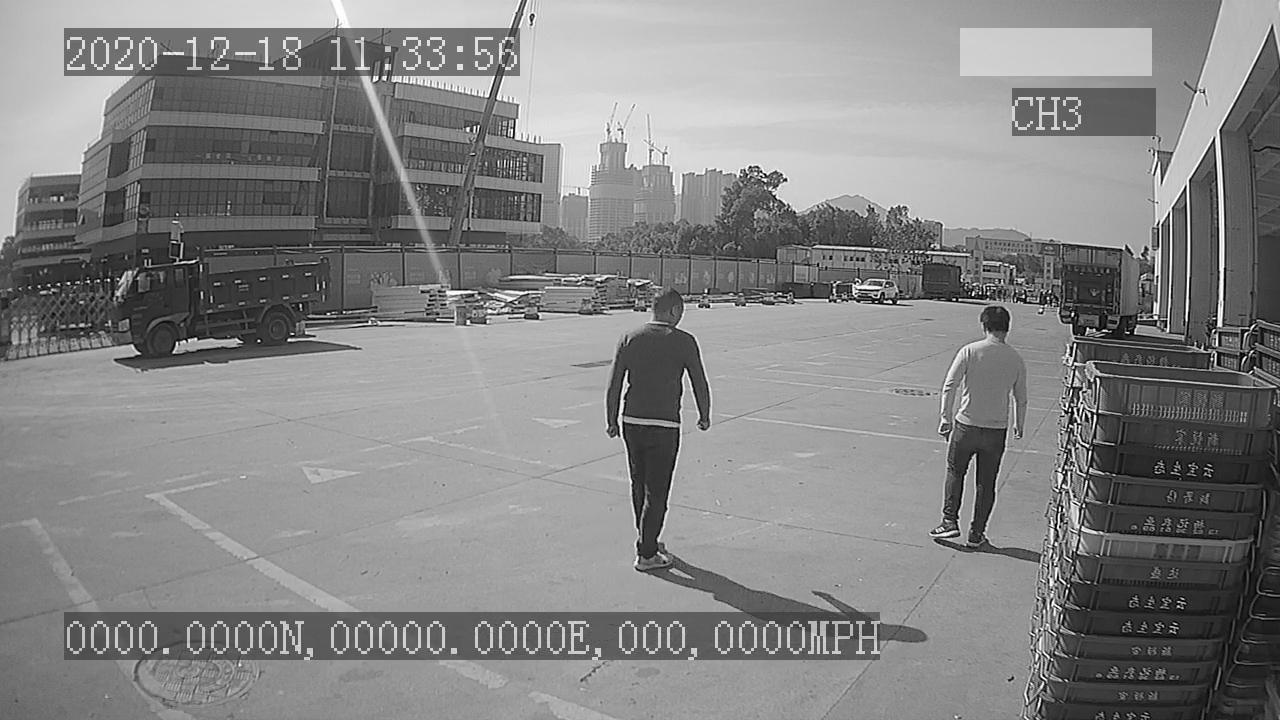person: (599, 288, 715, 575), (929, 302, 1028, 556)
